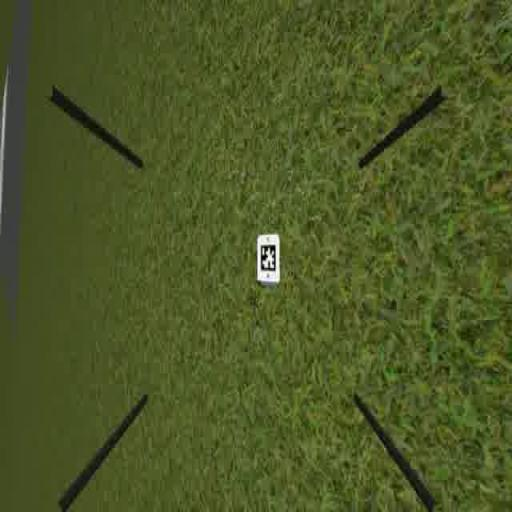UGV: (255, 232, 282, 290)
